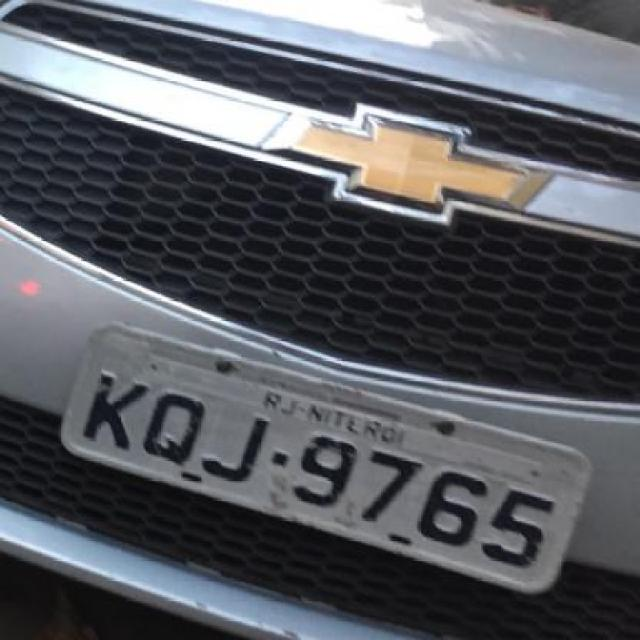old_plate: (55, 313, 601, 605)
